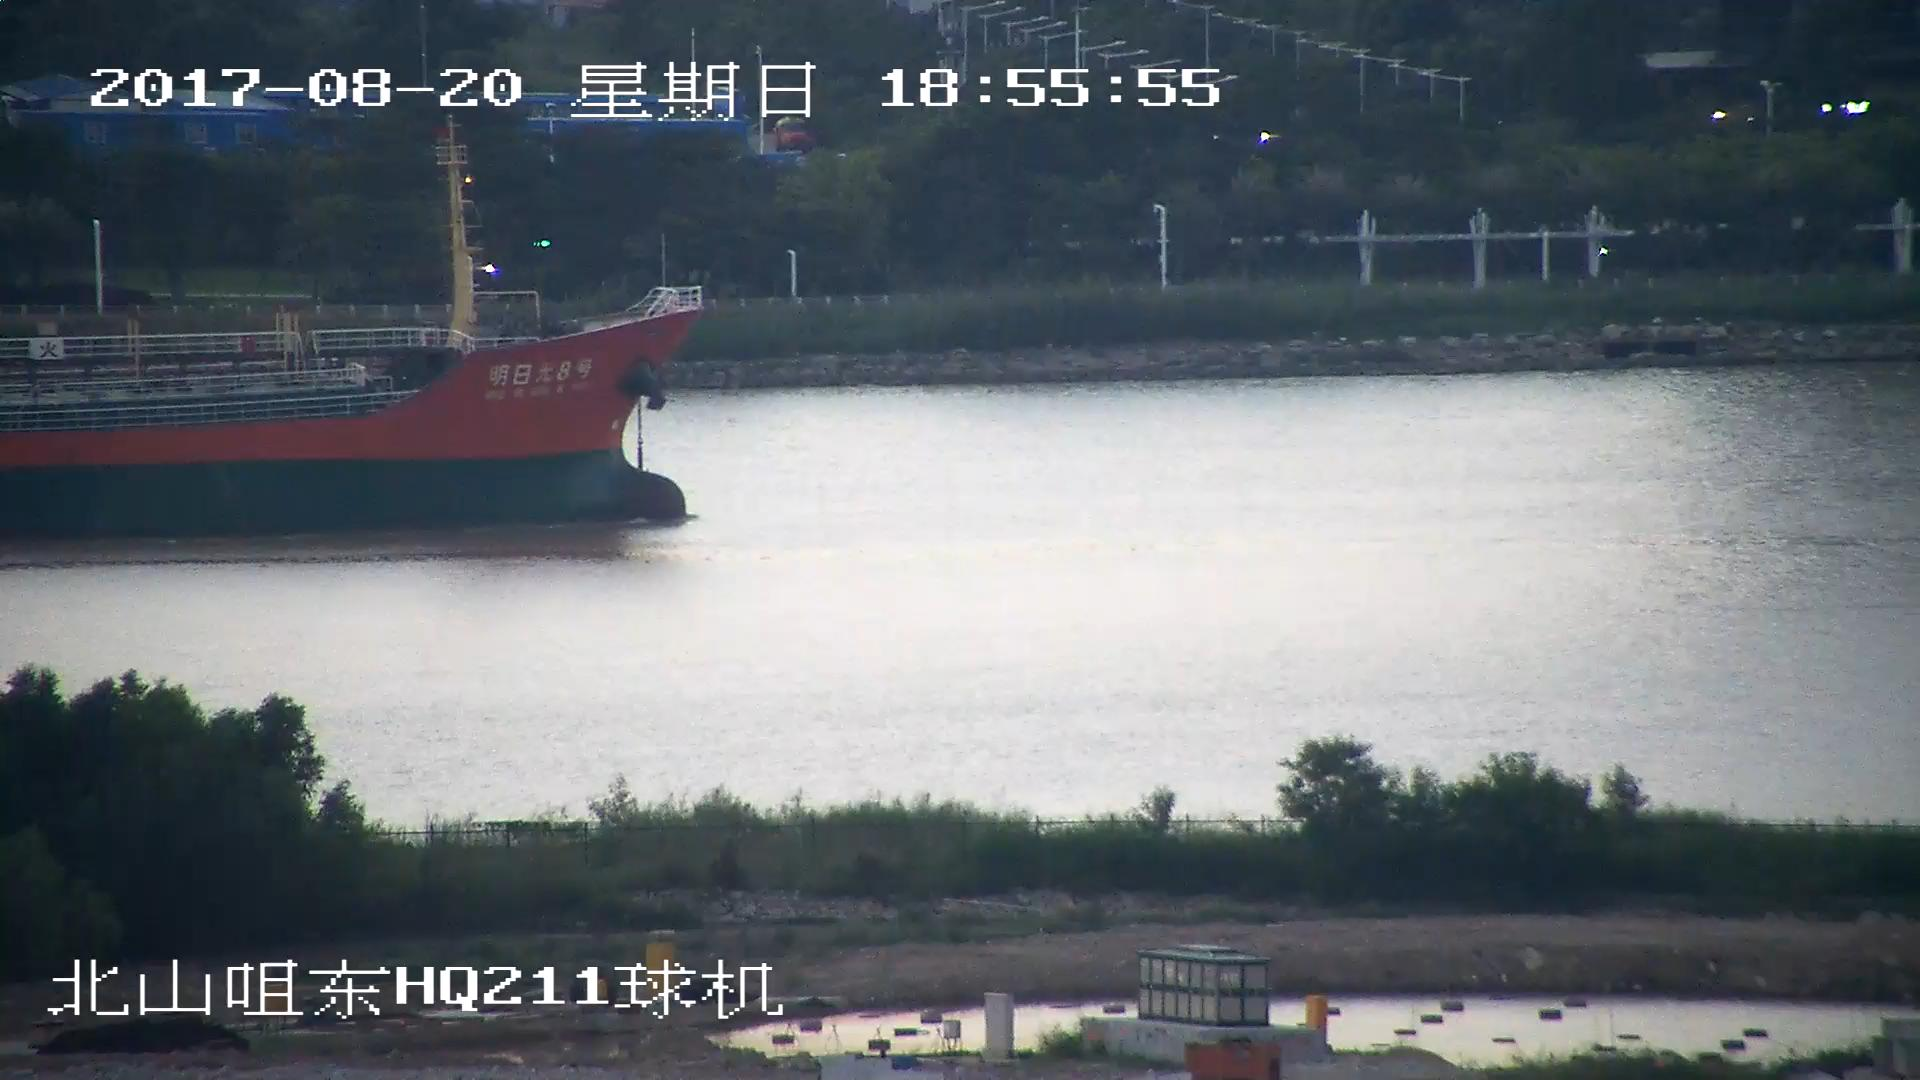general cargo ship: (1, 155, 699, 534)
